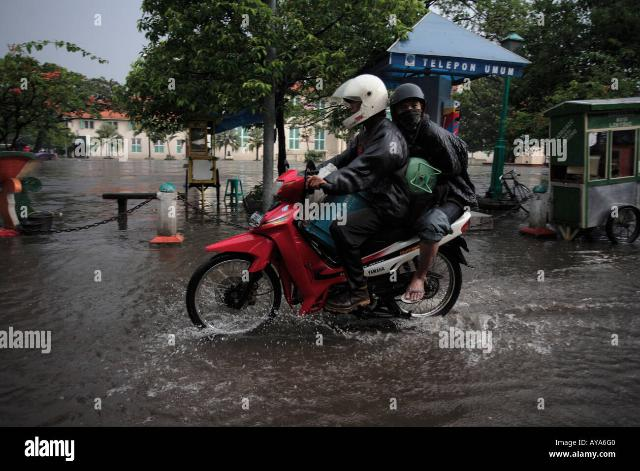helm: (333, 74, 388, 128), (391, 83, 430, 129)
motor: (189, 149, 473, 342)
